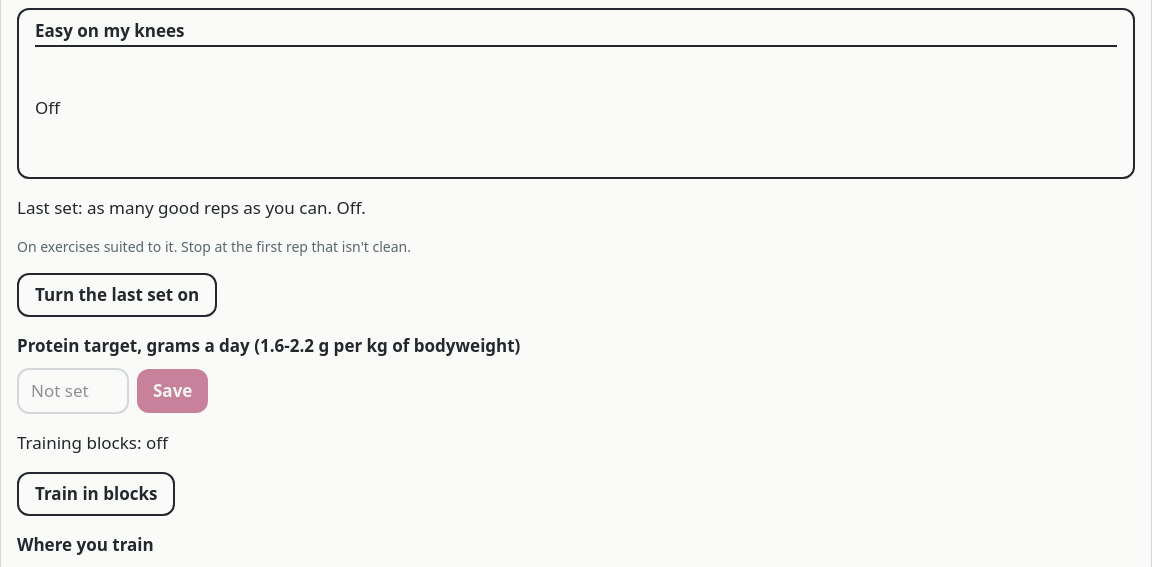
Test case: a refused last set says when it opens
This screenshot has width=1152, height=567.
(page scrolled)
Click the button "Turn the last set on" at (117, 295), box [17, 273, 217, 317]
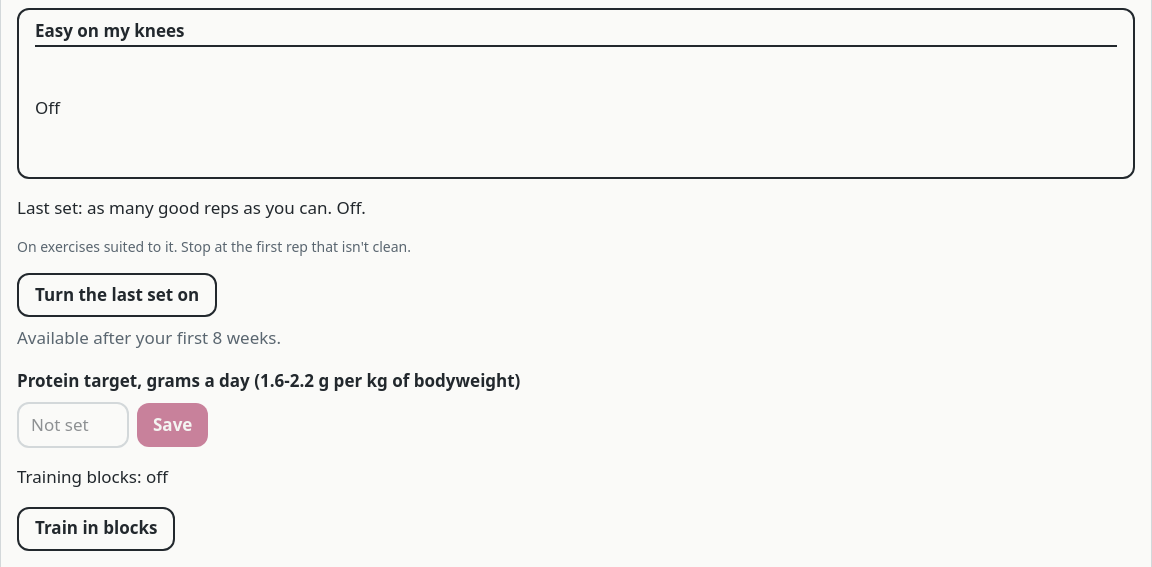
Check: the text "Available after your first 8 weeks." is shown, box [17, 326, 281, 349]
